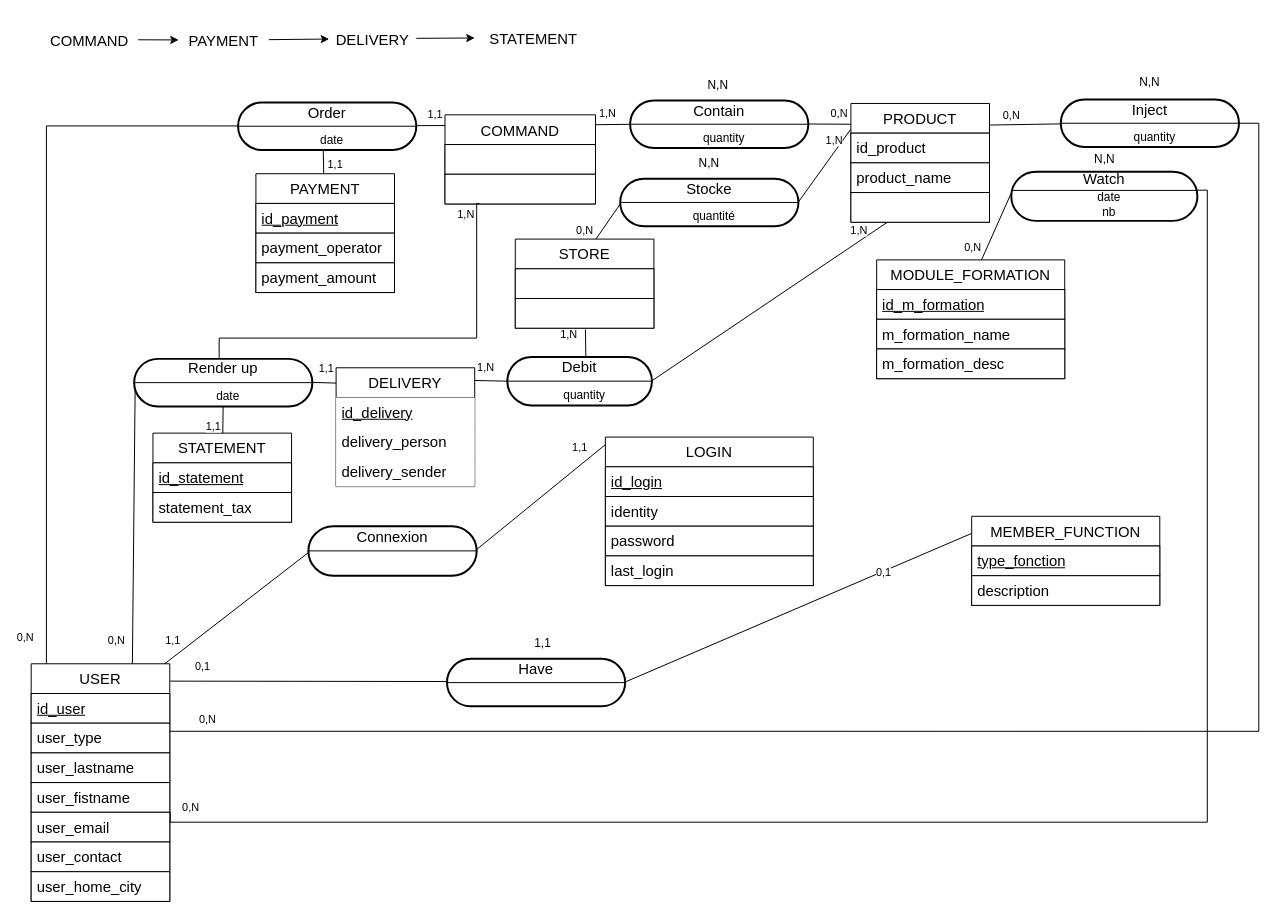
Some shapes in this 1278 by 919 pixel diagram are drawn without their labels. The centre of each missing label's shape, as x and y in pixels:
"command_quotation" goes at pixel 519 188.
"id_command" goes at pixel 519 159.
"id_store" goes at pixel 584 283.
"product_unity_price" goes at pixel 920 207.
"store_home_city" goes at pixel 584 312.
